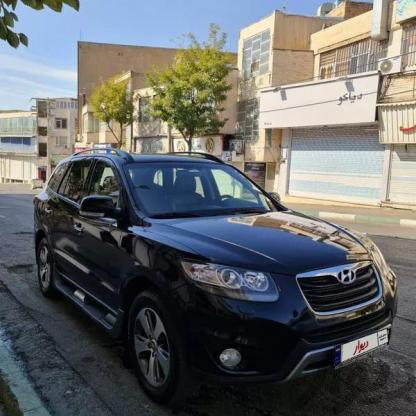Car: (28, 147, 403, 412)
